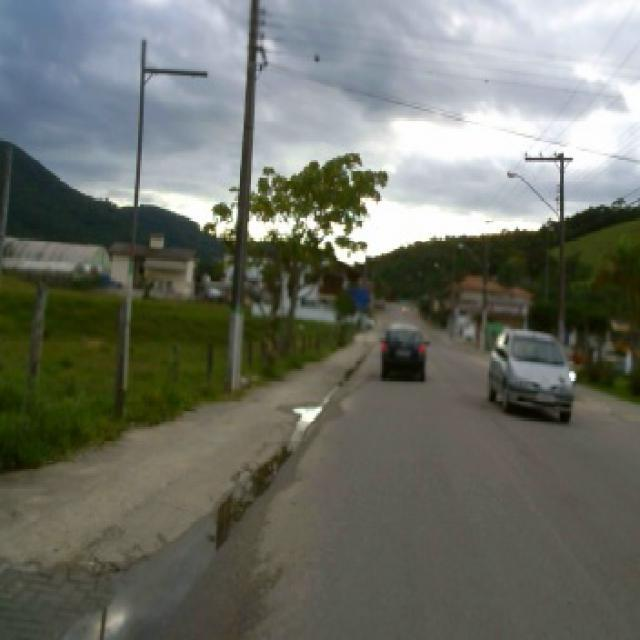Poth-hole: (56, 351, 369, 636)
